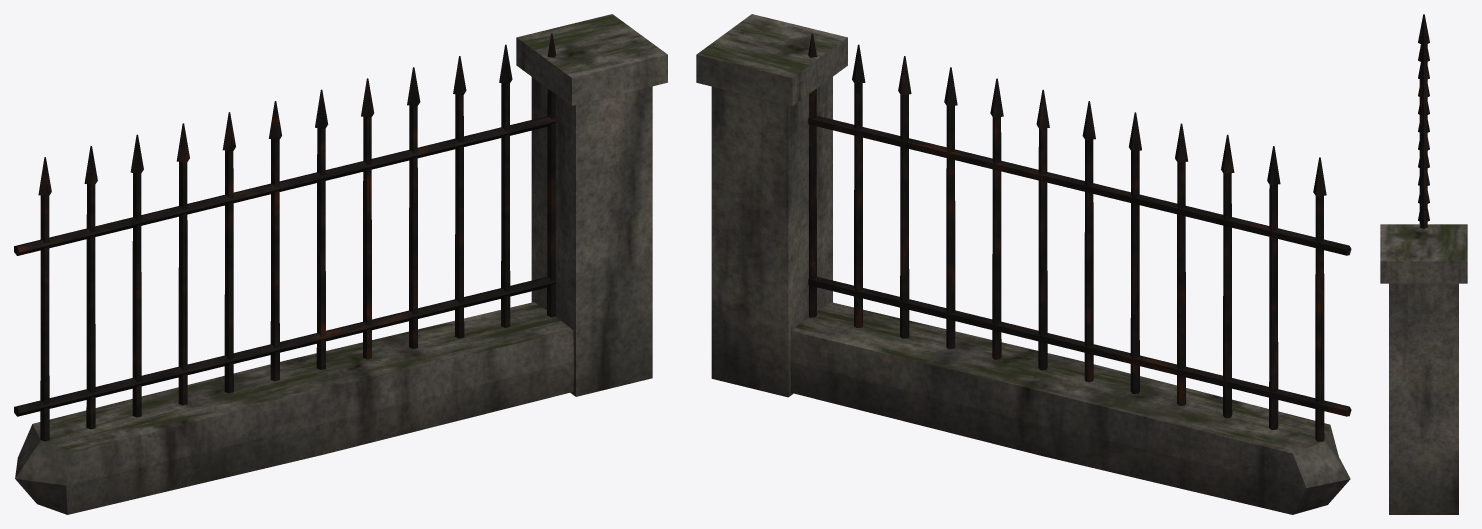
The model's file is iron_fence.glb.
3 renders of one model, left to right at view 1: azimuth 30°, elevation 25°; view 2: azimuth 150°, elevation 25°; view 3: azimuth 270°, elevation 25°, orthographic. The views are drawn at different scales.
Parts seen in each view (by area): view 1: iron_fence; view 2: iron_fence; view 3: iron_fence.
Part boxes in pixels (<box>): iron_fence: <box>14,14,667,514</box>; iron_fence: <box>696,14,1351,514</box>; iron_fence: <box>1380,14,1467,514</box>.
Bounding box in the file's own units: 3.26 × 1.74 × 0.5.
Materials: 1 (1 with a texture image).
